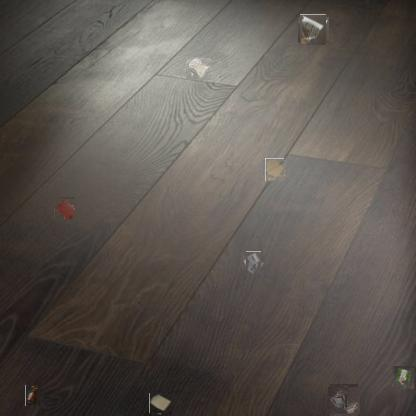dirty: (329, 385, 359, 415), (299, 16, 328, 44), (185, 56, 211, 80), (393, 366, 415, 388), (150, 393, 172, 414), (244, 253, 263, 272), (25, 384, 38, 406)
liquid: (264, 159, 285, 180), (54, 198, 74, 220)
